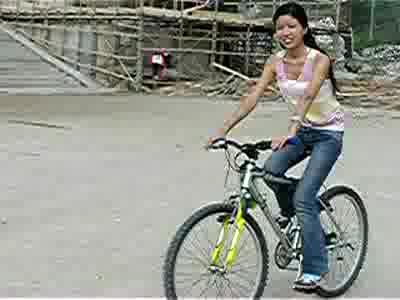person: (210, 3, 344, 291)
